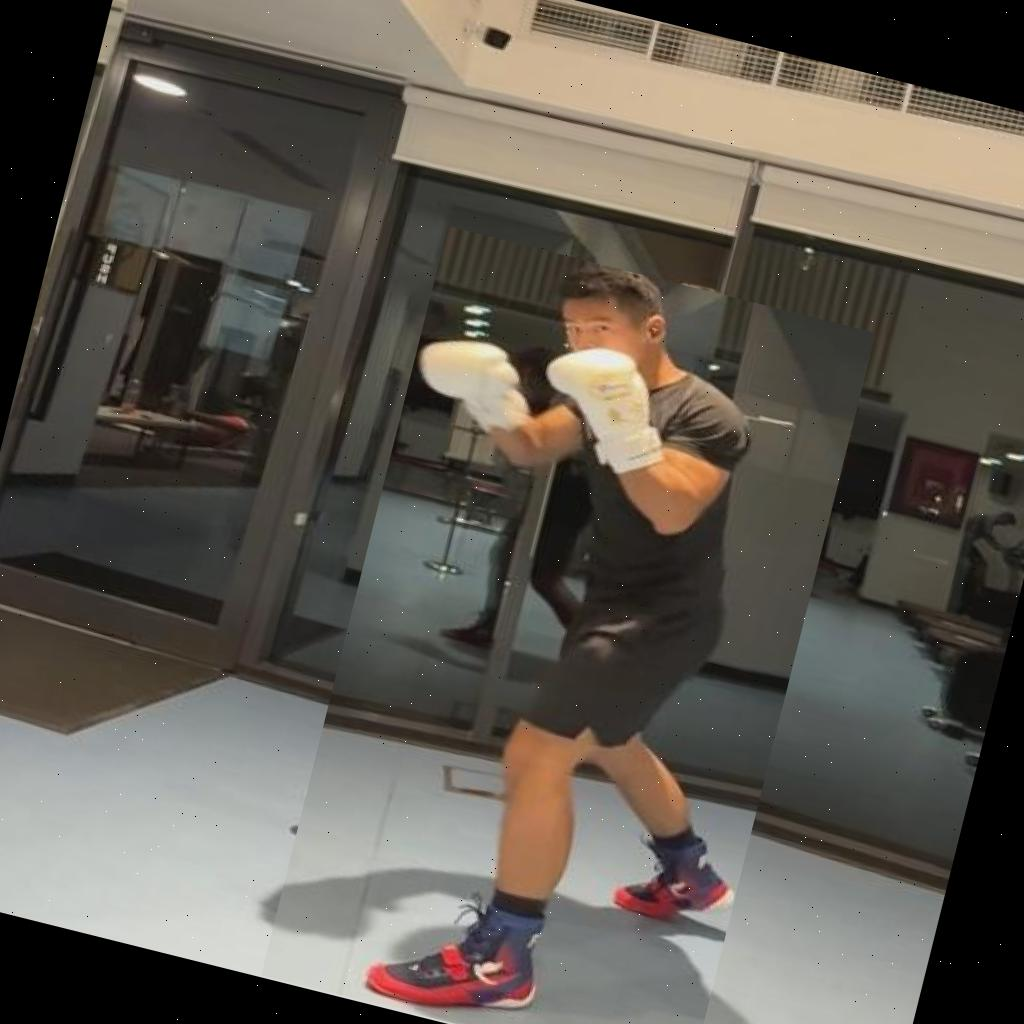no punch: (260, 225, 875, 1024)
